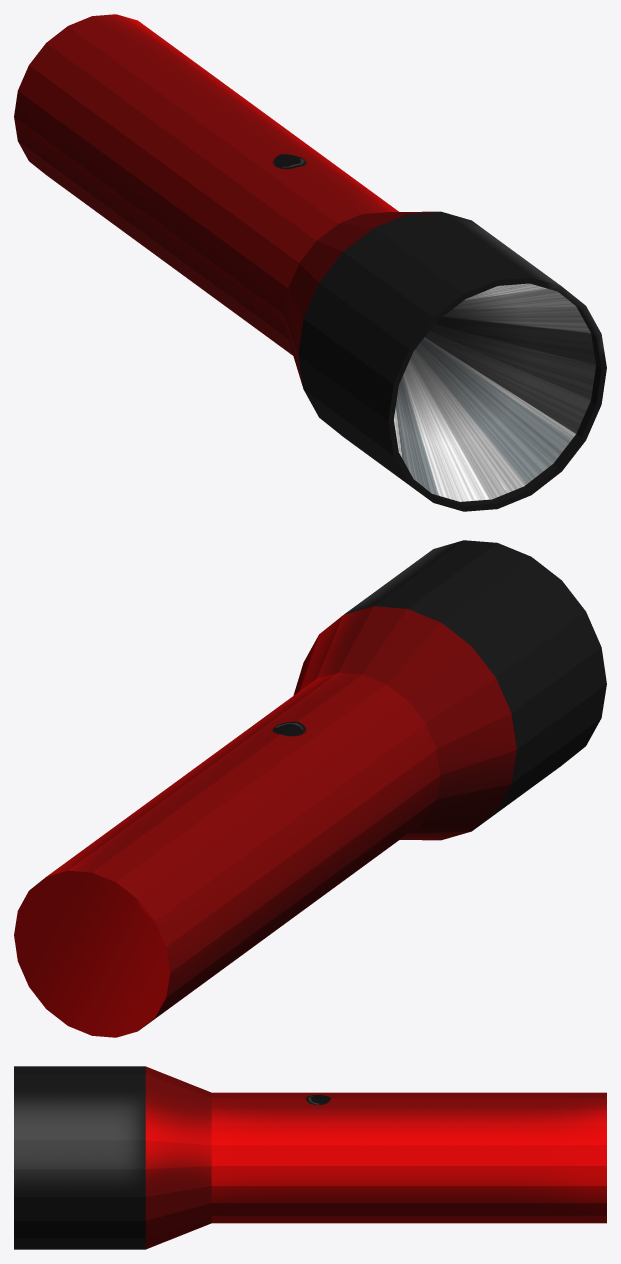
File: Tool_Flashlight.fbx
3 views of the same model, one above another, from view 1: azimuth 30°, elevation 25°; view 2: azimuth 150°, elevation 25°; view 3: azimuth 270°, elevation 25° (orthographic). The views are drawn at different scales.
Parts seen in each view (by area): view 1: Tool_Flashlight; view 2: Tool_Flashlight; view 3: Tool_Flashlight.
Part boxes in pixels (x1,y1,x2,y2): Tool_Flashlight: [14, 14, 606, 511]; Tool_Flashlight: [14, 540, 606, 1037]; Tool_Flashlight: [14, 1066, 606, 1249].
Bounding box in the file's own units: 7 × 7 × 22.5.
